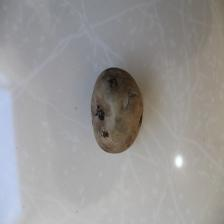Diseased-fungal potato: (90, 66, 144, 155)
